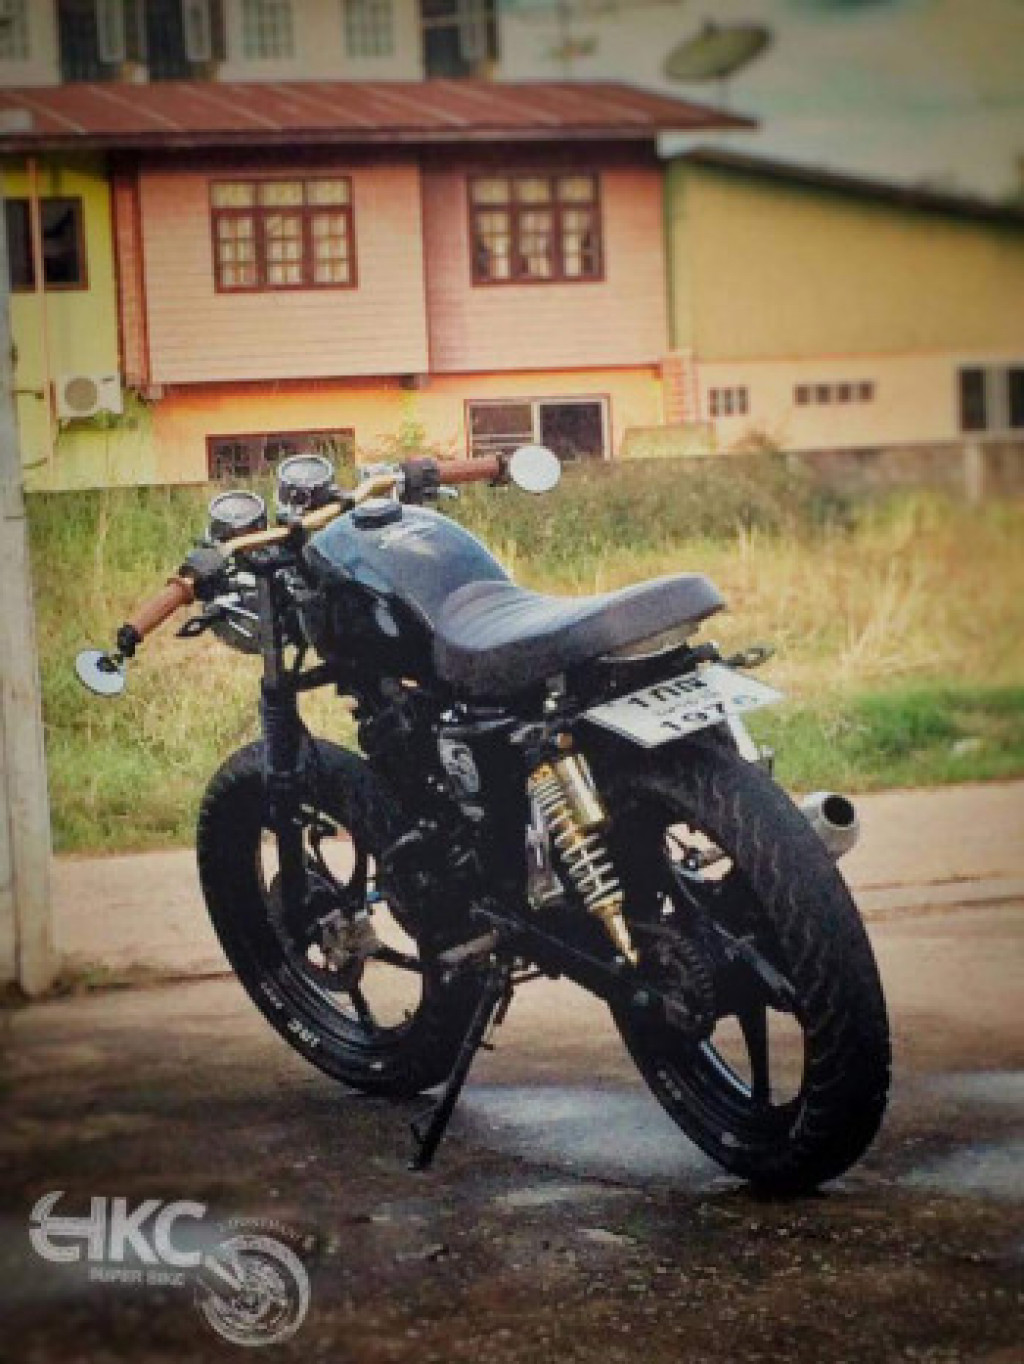motorcycle: (65, 438, 909, 1200)
